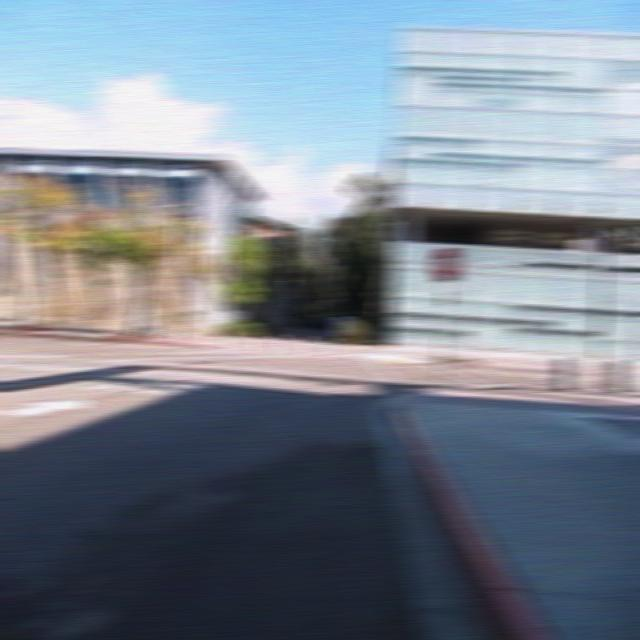stop_sign: (430, 245, 460, 280)
